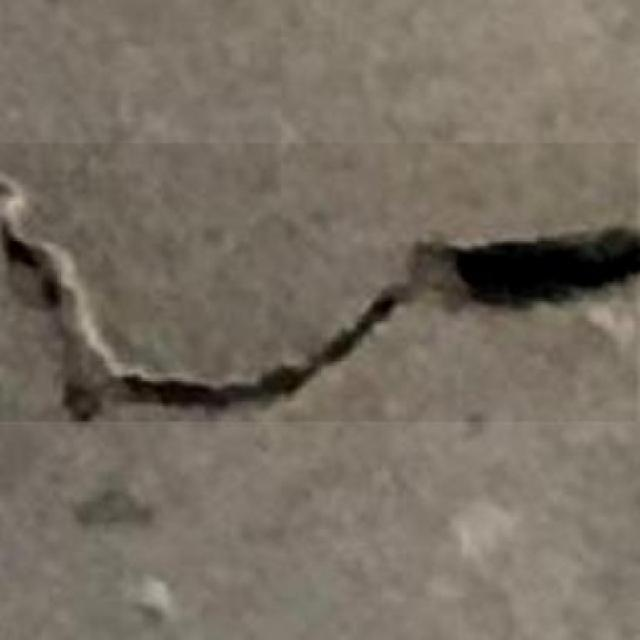Crack: (0, 171, 640, 431)
